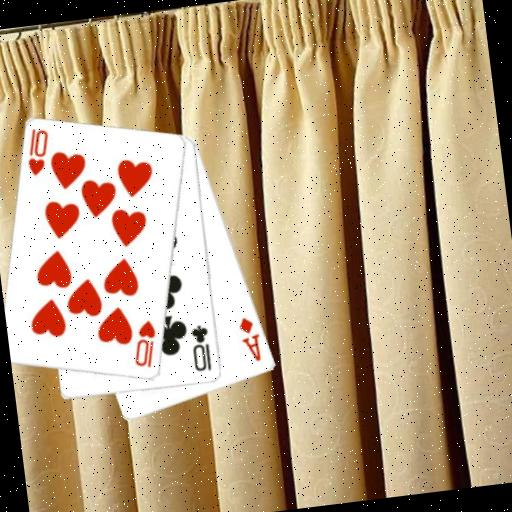10C: (187, 322, 215, 375)
10H: (127, 317, 162, 372), (20, 125, 55, 179)
AD: (236, 314, 265, 365)
